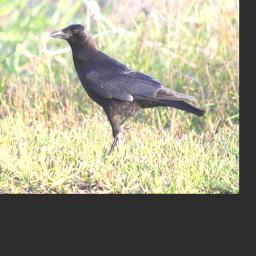Crow: (48, 22, 207, 160)
